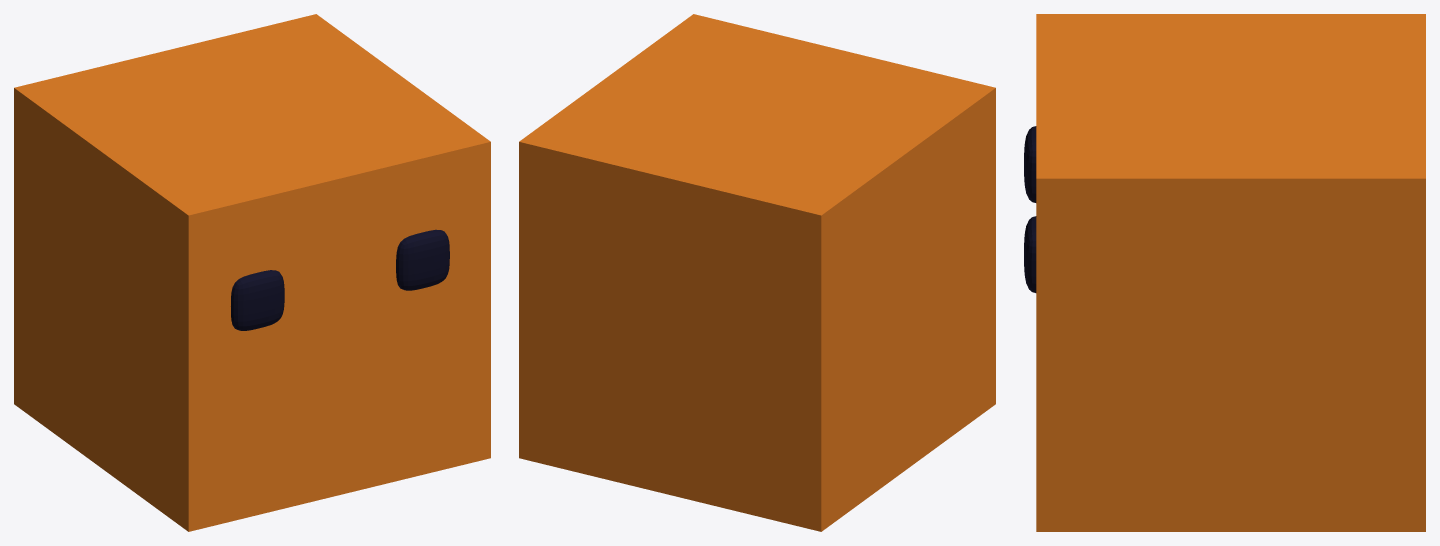
Rendered from mole.glb.
3 renders of one model, left to right at view 1: azimuth 30°, elevation 25°; view 2: azimuth 150°, elevation 25°; view 3: azimuth 270°, elevation 25°, orthographic. The views are drawn at different scales.
Visible parts, largest first — view 1: Cube, Plane; view 2: Cube; view 3: Cube, Plane.
Part boxes in pixels (x1,y1,x2,y2): Cube: (14, 14, 490, 531); Plane: (231, 229, 449, 330); Cube: (519, 14, 995, 531); Cube: (1036, 14, 1425, 531); Plane: (1024, 126, 1036, 292).
Bounding box in the file's own units: 2 × 2 × 2.06.
